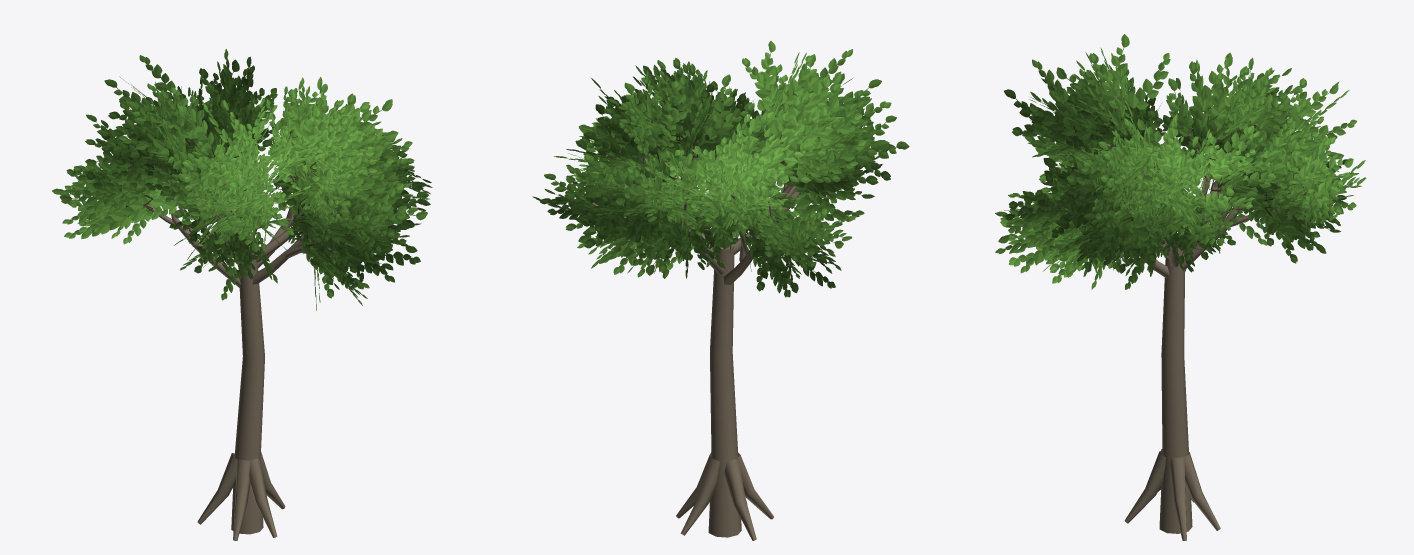
File: jungle_tree_1_mid.glb
The picture shows the model from 3 angles, left to right: view 1: azimuth 30°, elevation 25°; view 2: azimuth 150°, elevation 25°; view 3: azimuth 270°, elevation 25°; orthographic projection. The views are drawn at different scales.
Visible parts, largest first — view 1: jungle_tree_1_mid; view 2: jungle_tree_1_mid; view 3: jungle_tree_1_mid.
Boxes of the visible parts, x1=… form: jungle_tree_1_mid: x1=52, y1=49, x2=432, y2=540; jungle_tree_1_mid: x1=532, y1=41, x2=909, y2=540; jungle_tree_1_mid: x1=995, y1=34, x2=1366, y2=540.
Size of the model in its own units: 13.73 by 17.51 by 14.21.
Materials: 2 (1 with a texture image).
